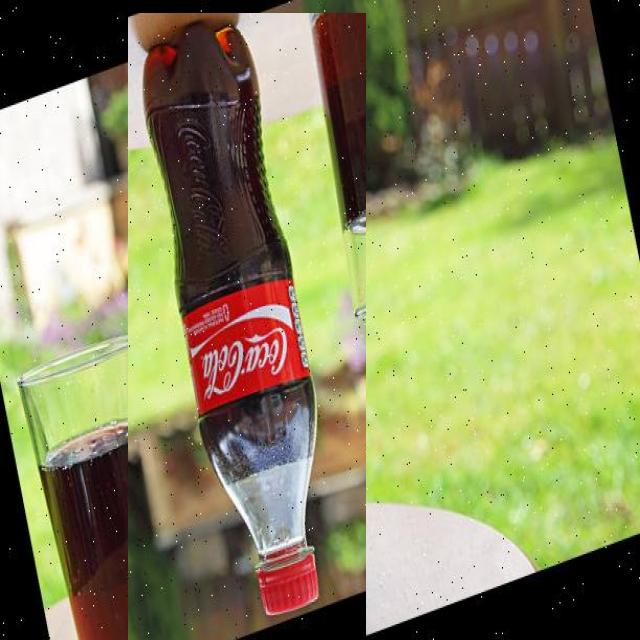coca-cola: (128, 13, 366, 640)
